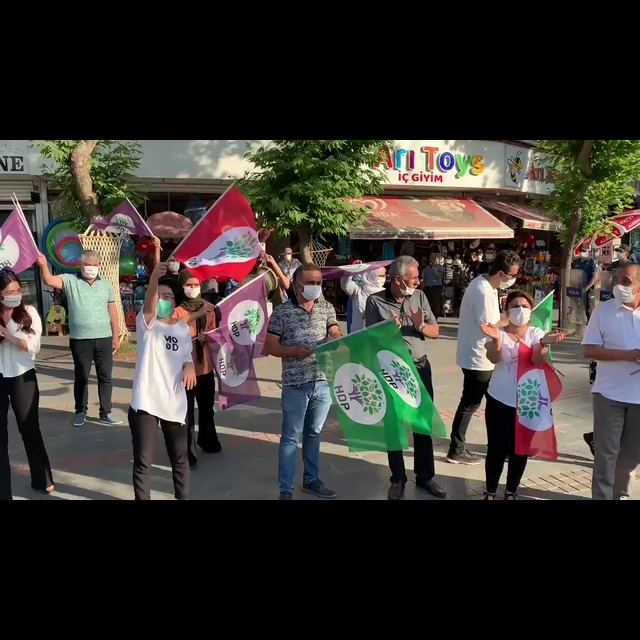HDP: (351, 369, 386, 420), (513, 373, 549, 420), (244, 307, 261, 337)
